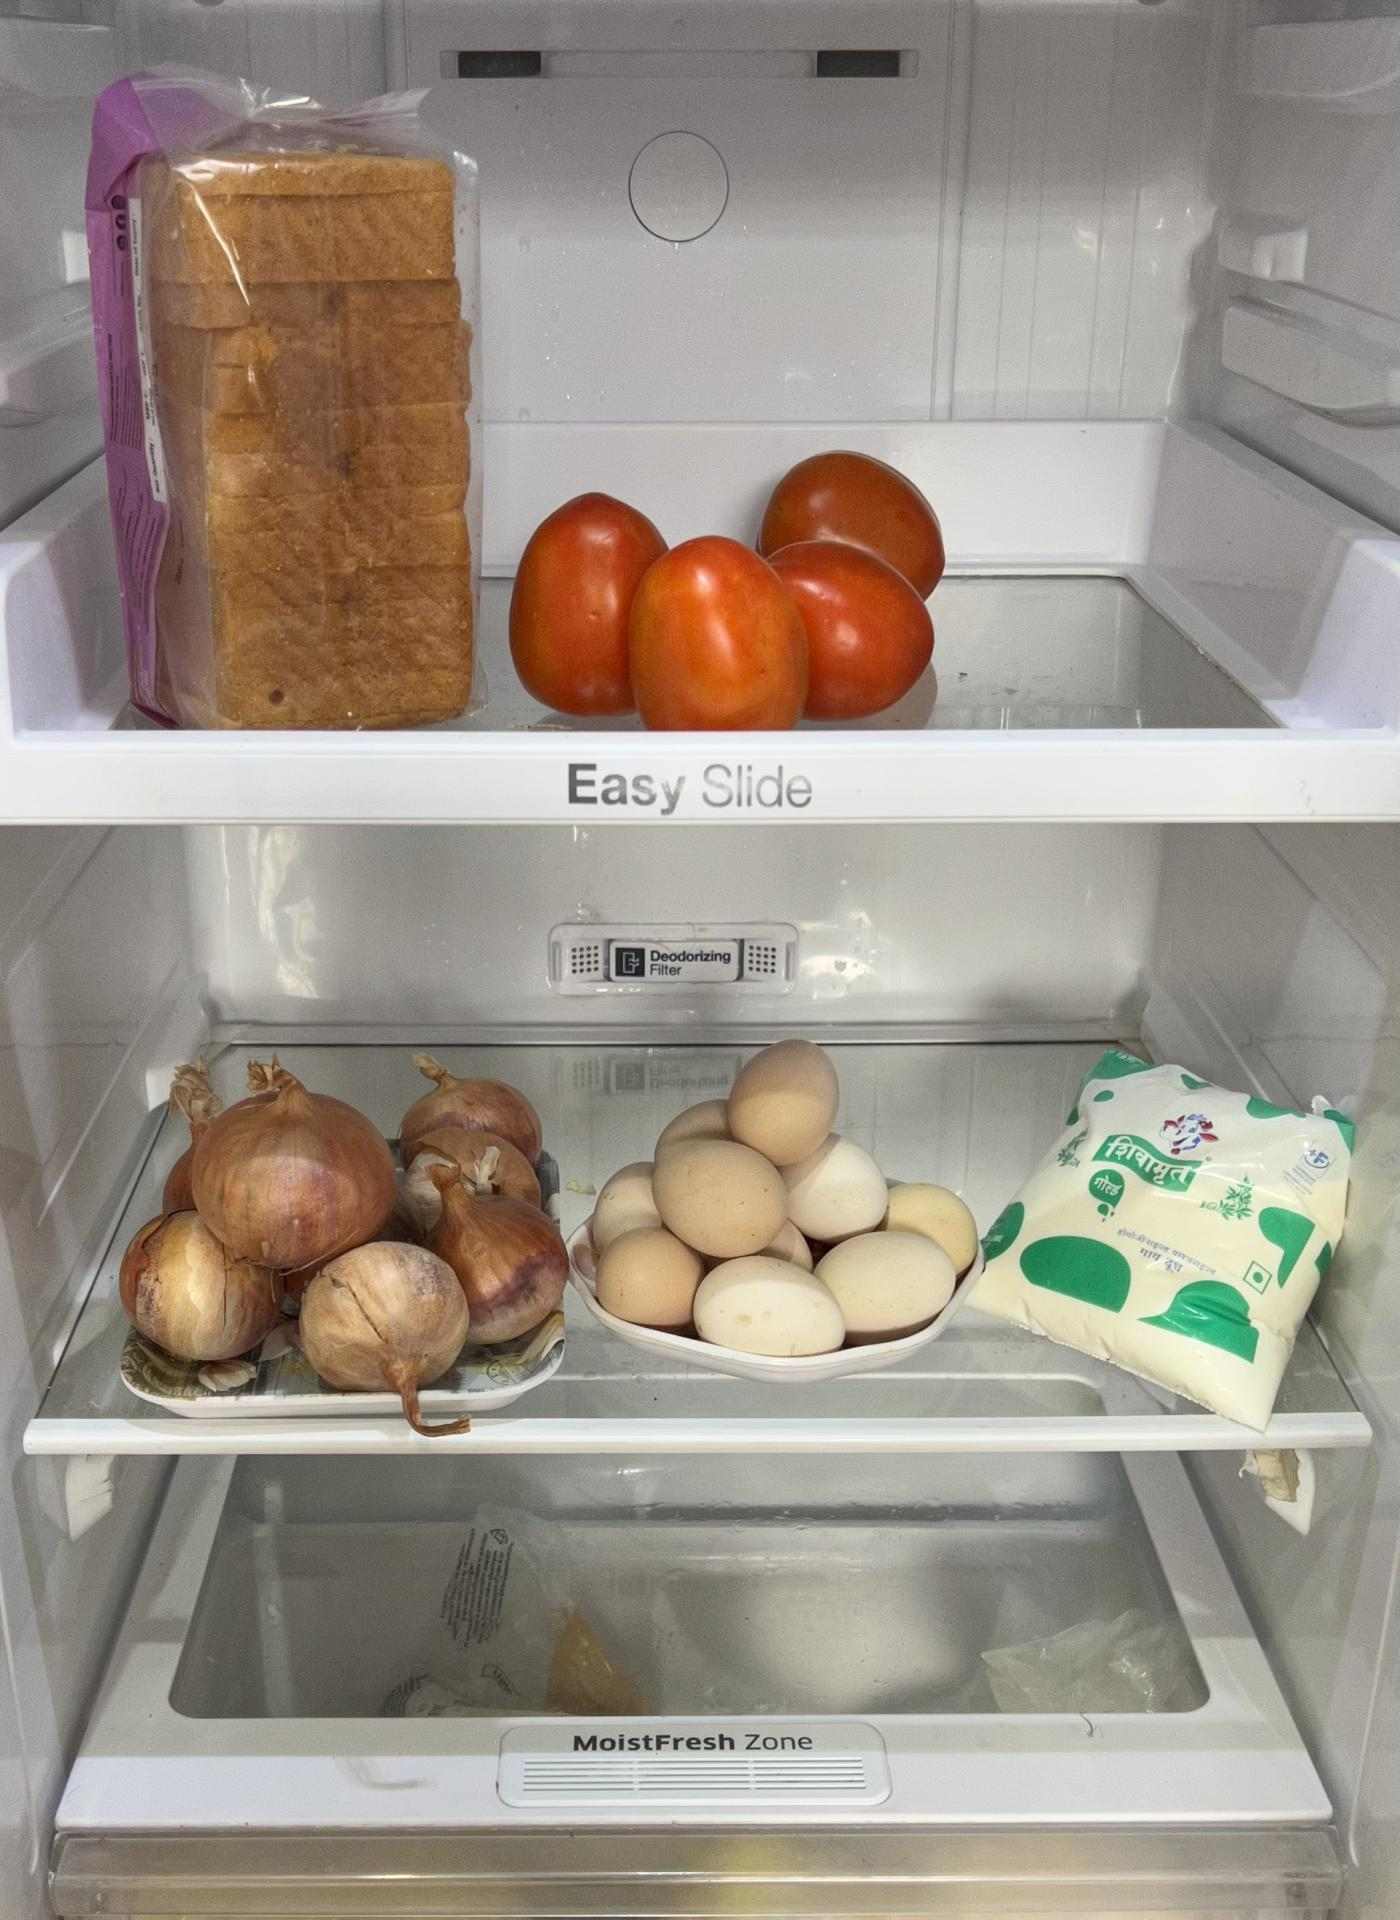bread: (67, 69, 492, 721)
egg: (589, 1040, 968, 1352)
milk: (986, 1040, 1363, 1413)
onion: (118, 1058, 570, 1398)
tomato: (516, 440, 947, 730)
